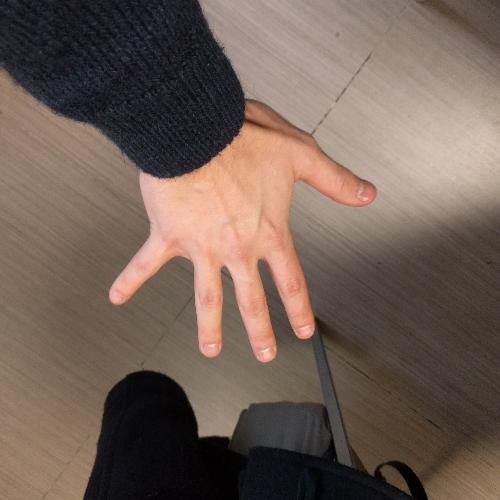paper: (104, 94, 382, 366)
